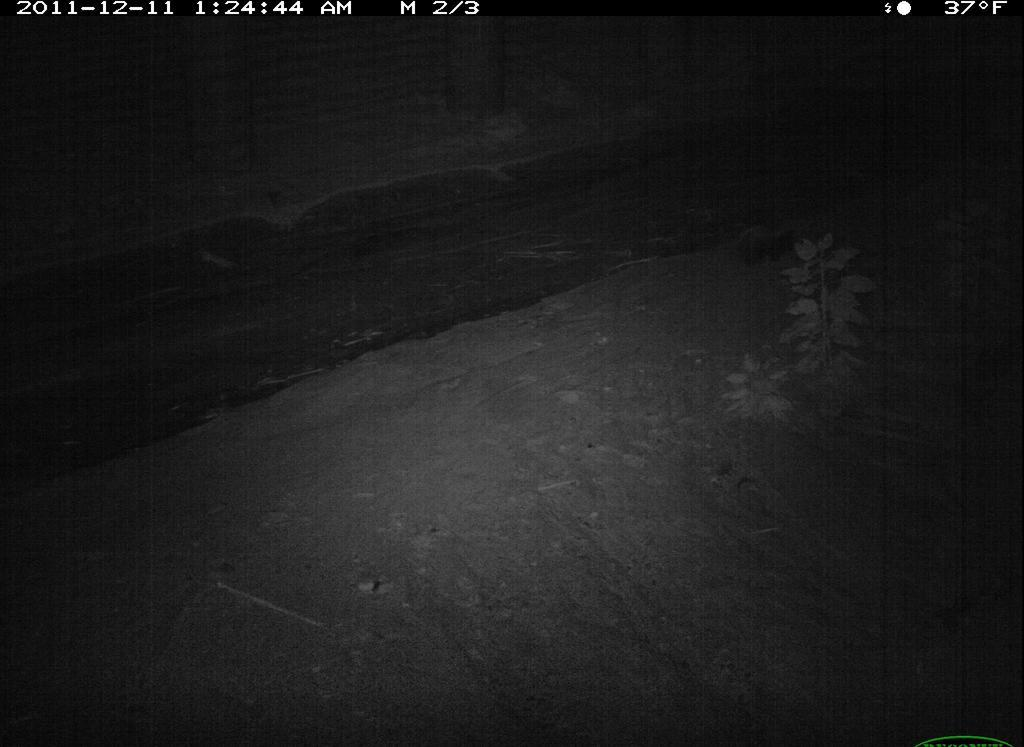skunk: (737, 226, 800, 267)
